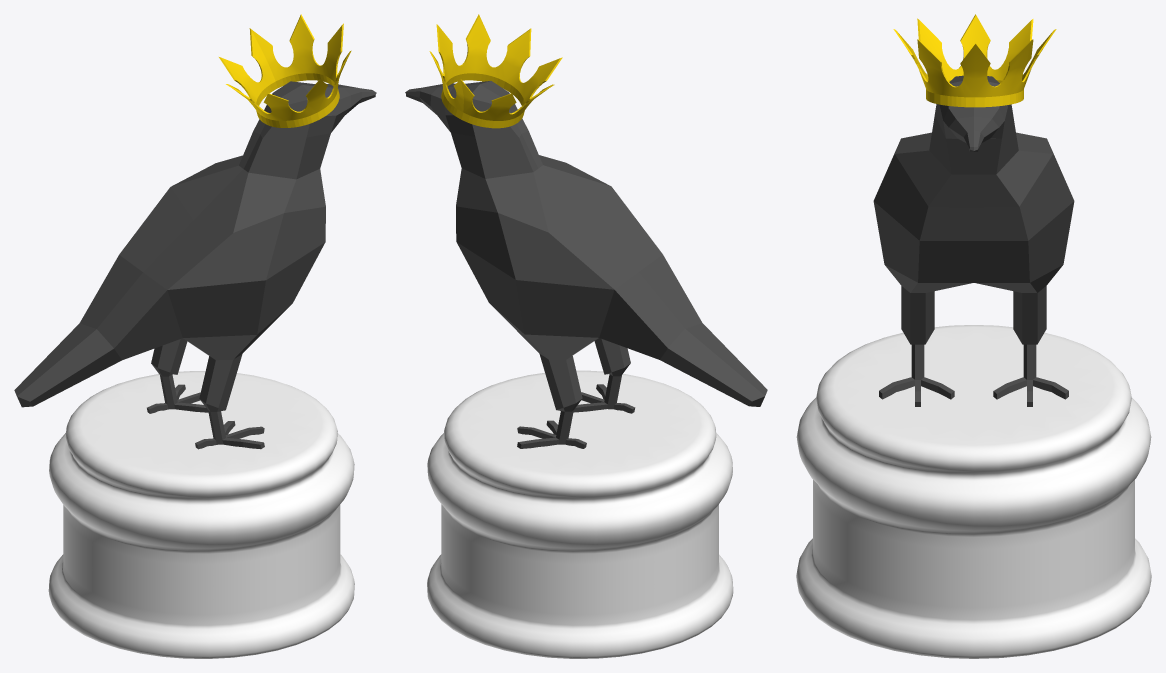
Rendered from statue.fbx.
3 views of the same model, side by side, from view 1: azimuth 30°, elevation 25°; view 2: azimuth 150°, elevation 25°; view 3: azimuth 270°, elevation 25° (orthographic). The views are drawn at different scales.
Parts seen in each view (by area): view 1: statue; view 2: statue; view 3: statue.
Part boxes in pixels (x1,y1,x2,y2): statue: (14, 14, 376, 658); statue: (405, 14, 767, 658); statue: (796, 14, 1151, 658).
Bounding box in the file's own units: 607 × 868 × 448.
